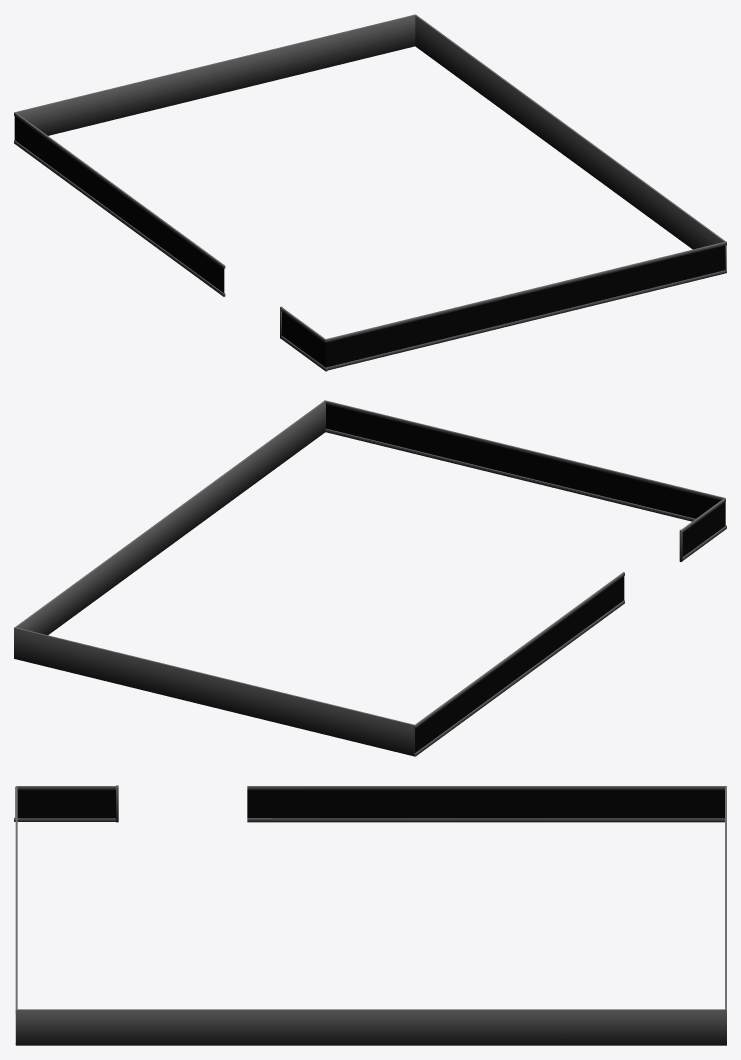
Rendered from HotelWalls.fbx.
The picture shows the model from 3 angles, top to bottom: view 1: azimuth 30°, elevation 25°; view 2: azimuth 150°, elevation 25°; view 3: azimuth 270°, elevation 25°; orthographic projection. The views are drawn at different scales.
Parts seen in each view (by area): view 1: Cube.008 (2), Plane.010 (14), Cube.008 (3), Plane.010, Cube.008 (10), Cube.008 (4), Cube.008 (1), Plane.010 (8), Cube.008; view 2: Cube.008 (2), Cube.008 (3), Plane.010 (14), Plane.010, Cube.008 (10), Cube.008 (4), Cube.008 (1), Plane.010 (8), Cube.008; view 3: Cube.008 (3), Plane.010, Plane.010 (8), Cube.008 (1), Cube.008, Cube.008 (10), Cube.008 (2), Cube.008 (11).
Boxes of the visible parts, x1,y1,x2,y2 form: Cube.008 (2): [16, 14, 415, 135]; Plane.010 (14): [326, 245, 725, 367]; Cube.008 (3): [415, 15, 726, 269]; Plane.010: [14, 116, 224, 292]; Cube.008 (10): [326, 241, 726, 342]; Cube.008 (4): [326, 270, 726, 370]; Cube.008 (1): [14, 112, 225, 268]; Plane.010 (8): [282, 312, 325, 367]; Cube.008: [14, 140, 225, 296]; Cube.008 (2): [14, 627, 414, 756]; Cube.008 (3): [15, 401, 325, 634]; Plane.010 (14): [326, 404, 720, 518]; Plane.010: [414, 576, 624, 752]; Cube.008 (10): [324, 400, 724, 500]; Cube.008 (4): [325, 428, 695, 521]; Cube.008 (1): [414, 572, 624, 728]; Plane.010 (8): [682, 502, 725, 556]; Cube.008: [414, 600, 624, 756]; Cube.008 (3): [16, 1009, 724, 1045]; Plane.010: [247, 790, 724, 818]; Plane.010 (8): [15, 787, 115, 818]; Cube.008 (1): [247, 786, 726, 790]; Cube.008: [247, 818, 724, 822]; Cube.008 (10): [15, 786, 17, 1013]; Cube.008 (2): [725, 786, 726, 1045]; Cube.008 (11): [16, 786, 115, 790].
Size of the model in its own units: 6778 by 504 by 9107.
Materials: 2 (2 with a texture image).
